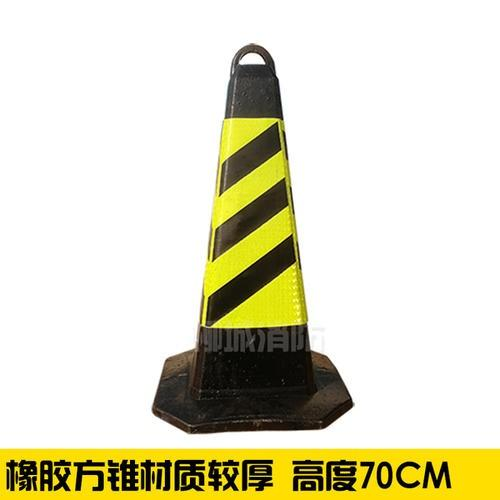cone_barrel: (158, 61, 345, 425)
